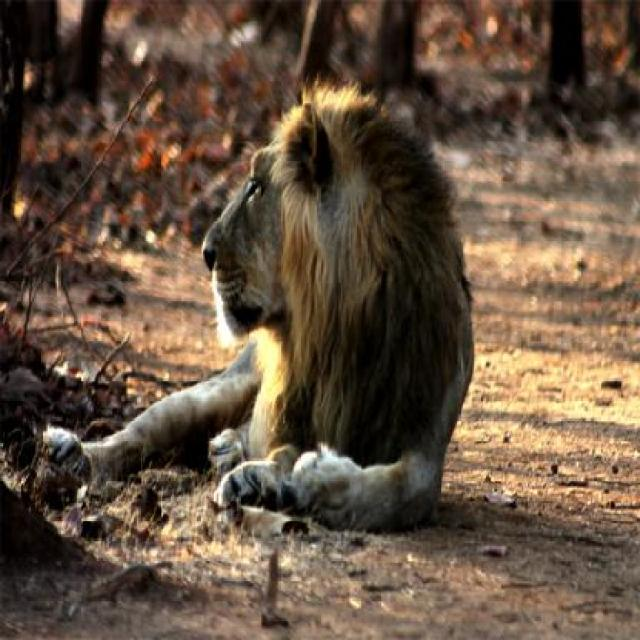Lion: (38, 77, 491, 517)
